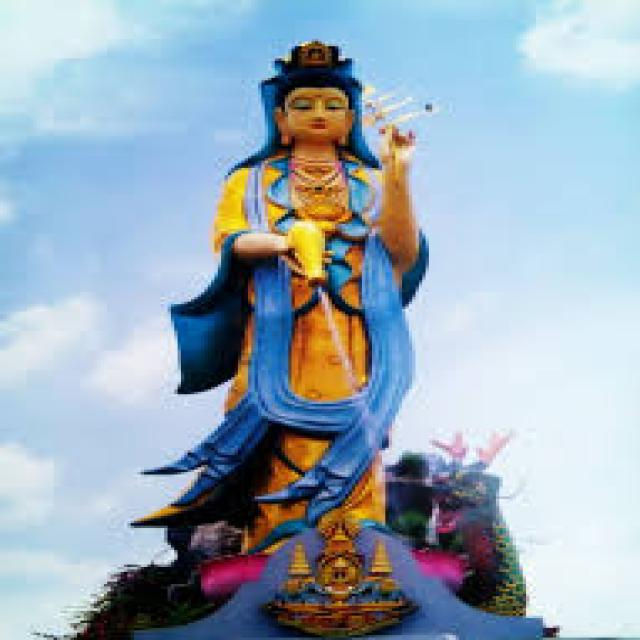Guan Yin: (186, 36, 442, 450)
